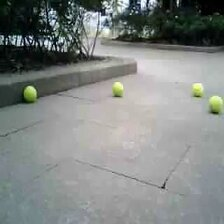tennis: (208, 95, 224, 112), (24, 86, 37, 101), (111, 82, 124, 96), (193, 82, 203, 96)
